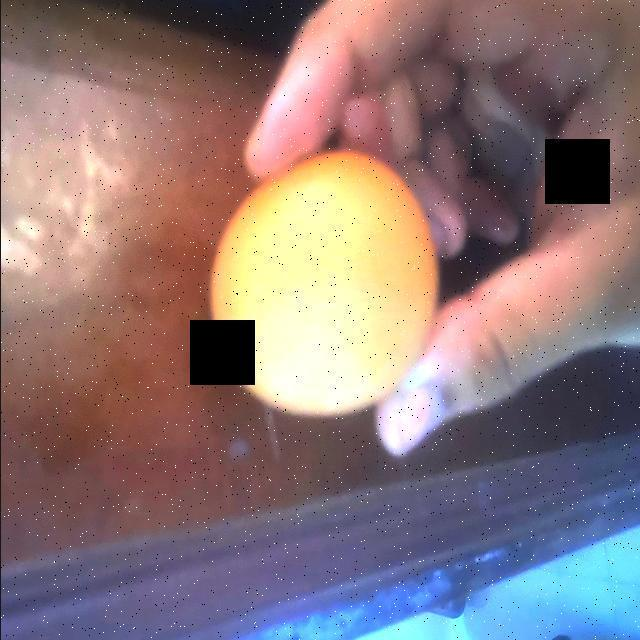egg: (200, 142, 438, 426)
